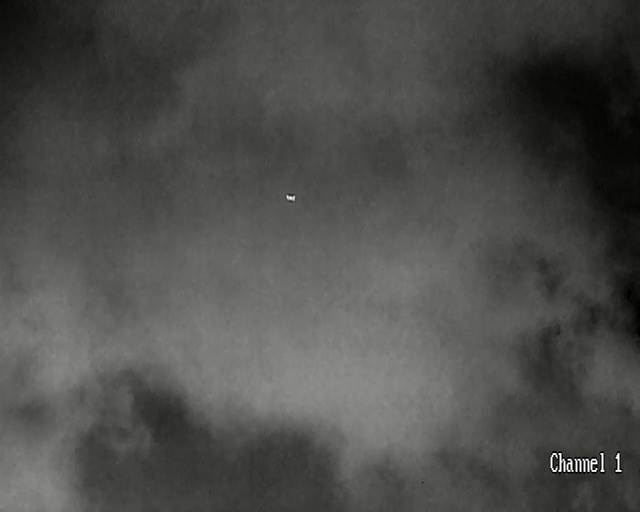uav: (285, 194, 295, 201)
